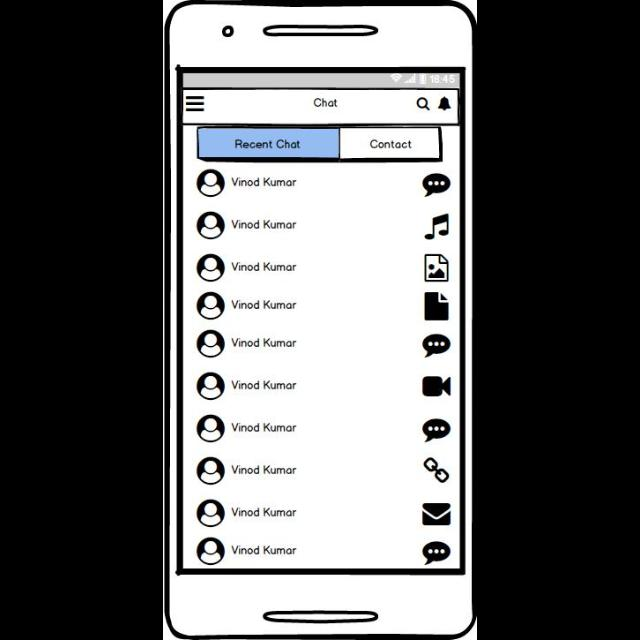icon: (197, 414, 226, 444), (197, 456, 226, 486), (197, 498, 226, 528), (197, 536, 226, 566), (197, 372, 226, 401), (197, 170, 226, 198), (197, 212, 226, 240), (197, 254, 226, 282), (197, 330, 226, 358), (198, 292, 226, 320), (424, 254, 450, 282), (424, 292, 450, 320), (424, 456, 450, 484), (422, 173, 452, 197), (422, 541, 452, 565), (422, 419, 451, 443), (424, 214, 450, 240), (423, 502, 451, 526), (422, 375, 452, 397), (422, 335, 451, 357), (187, 96, 206, 112), (416, 98, 430, 112), (438, 98, 450, 112)
text: (230, 176, 298, 188), (230, 218, 298, 230), (229, 261, 297, 273), (232, 300, 298, 310), (232, 338, 298, 348), (232, 380, 298, 390), (232, 422, 298, 432), (232, 464, 298, 474), (232, 507, 296, 517), (232, 546, 298, 554), (314, 99, 338, 108)
textbutton: (196, 127, 340, 159), (342, 126, 442, 162)
toolbar: (184, 92, 458, 125)
